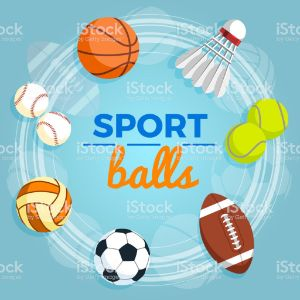baloncesto: (78, 17, 140, 80)
futbol americano: (199, 193, 255, 274)
voleibol: (16, 177, 72, 233)
